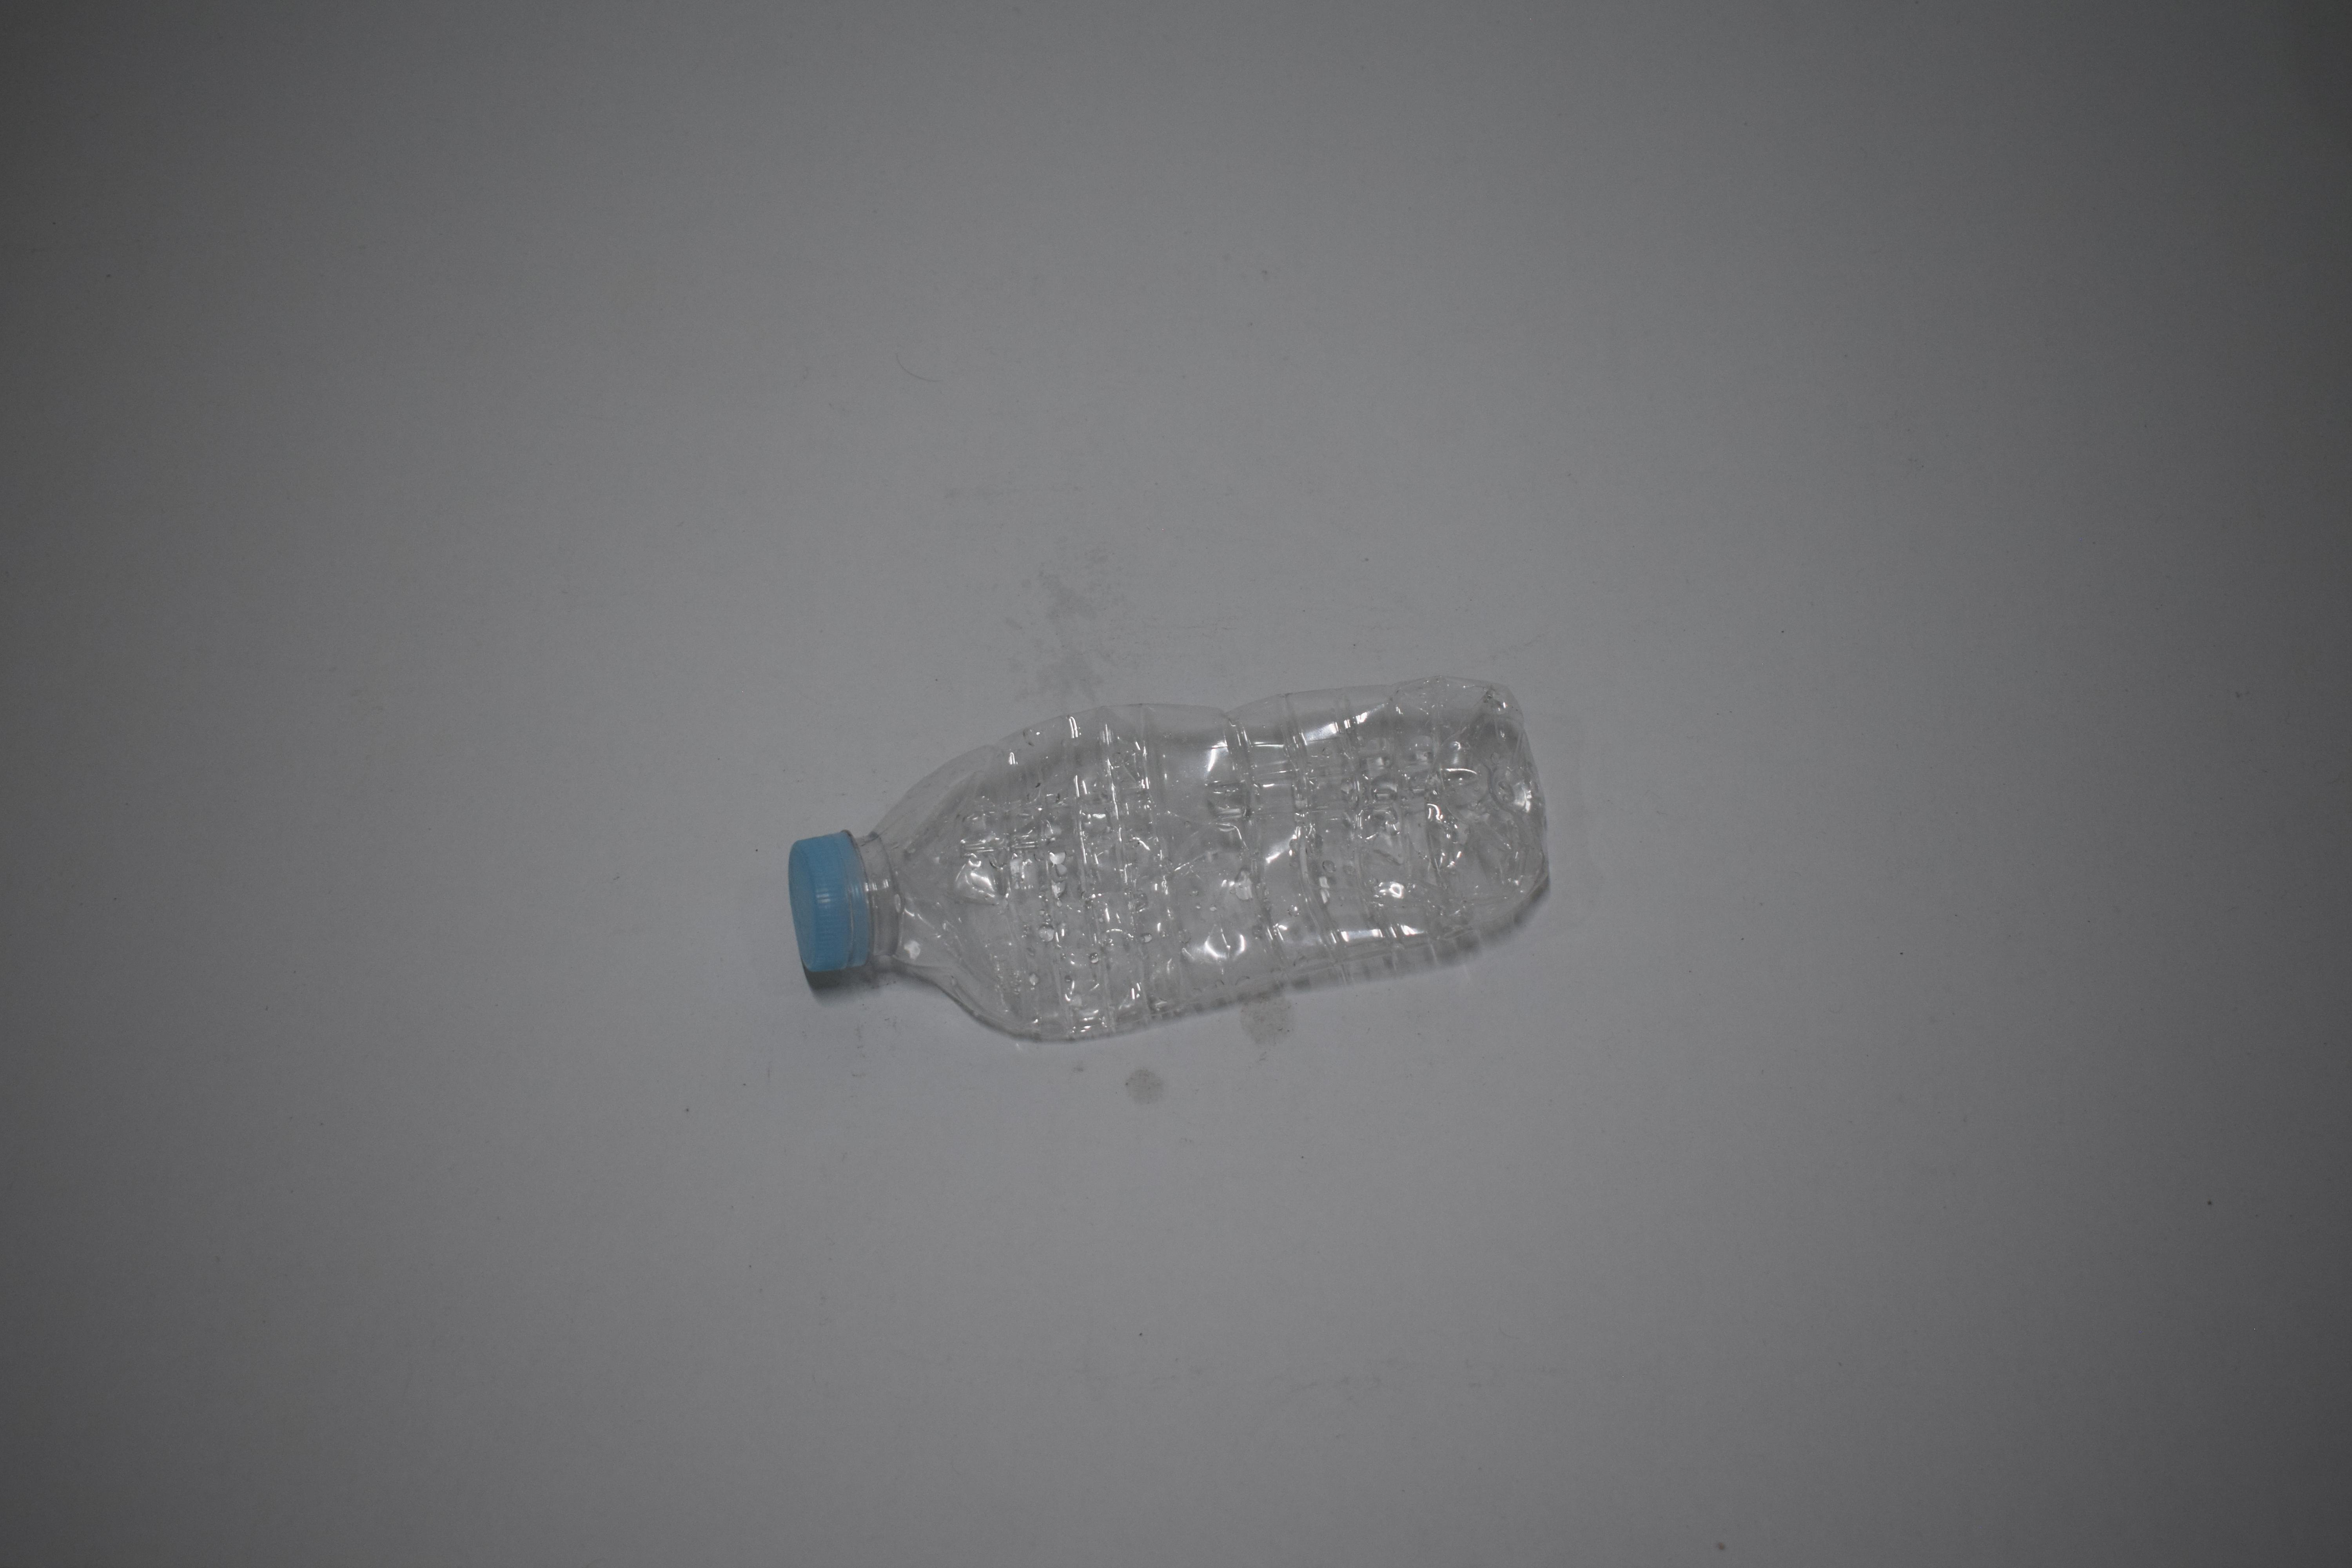bottle: (779, 0, 1559, 231)
